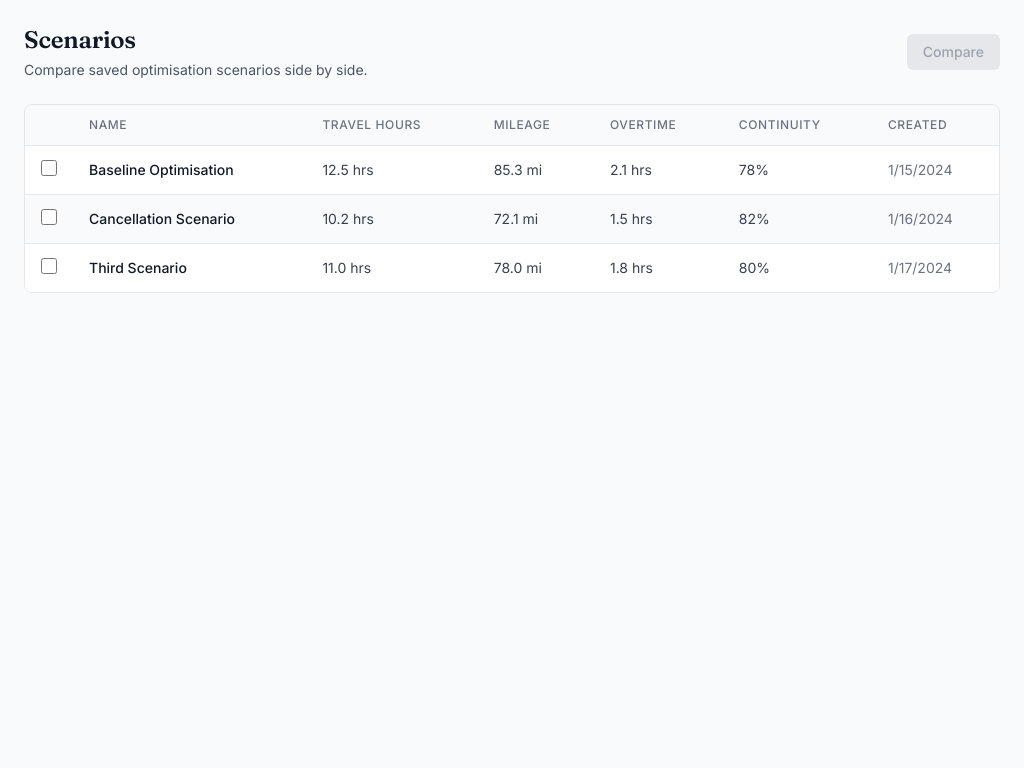
Test: ScenariosPage › navigates to comparison view when compare is clicked
Check: the text "Baseline Optimisation" is shown, box [73, 146, 306, 194]
Click the checkbox named "Select Baseline Optimisation for comparison" at (49, 168), box [41, 160, 57, 176]
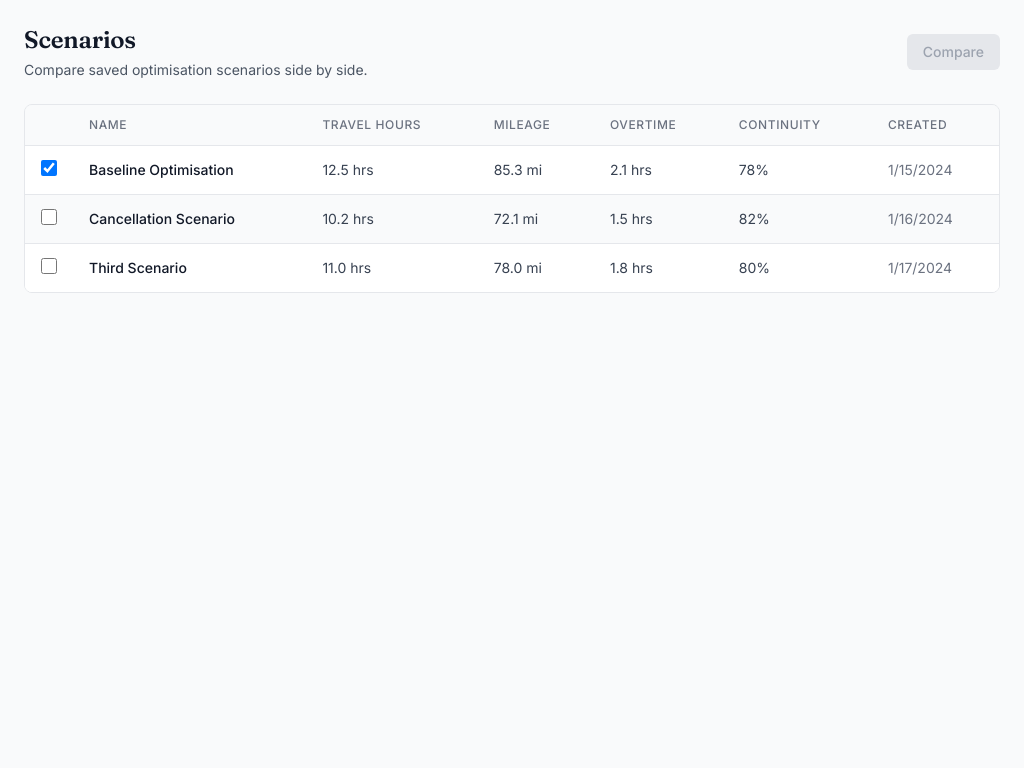
Click the checkbox named "Select Cancellation Scenario for comparison" at (49, 217), box [41, 209, 57, 225]
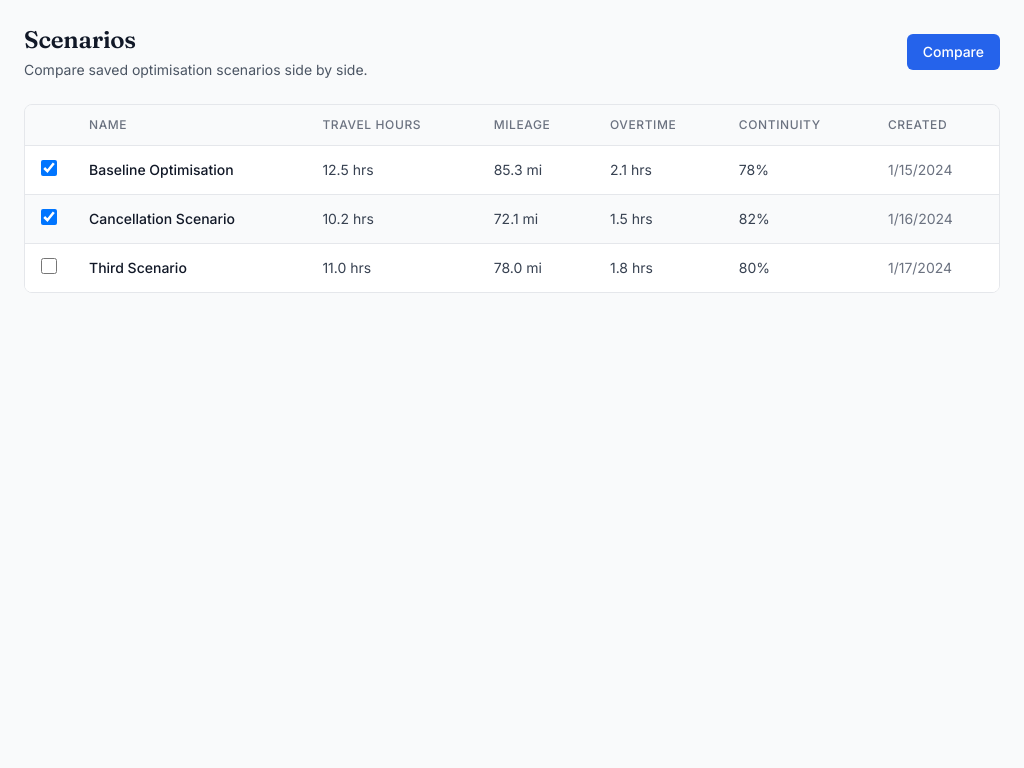
Click the button "Compare" at (953, 52), box [907, 34, 1000, 70]
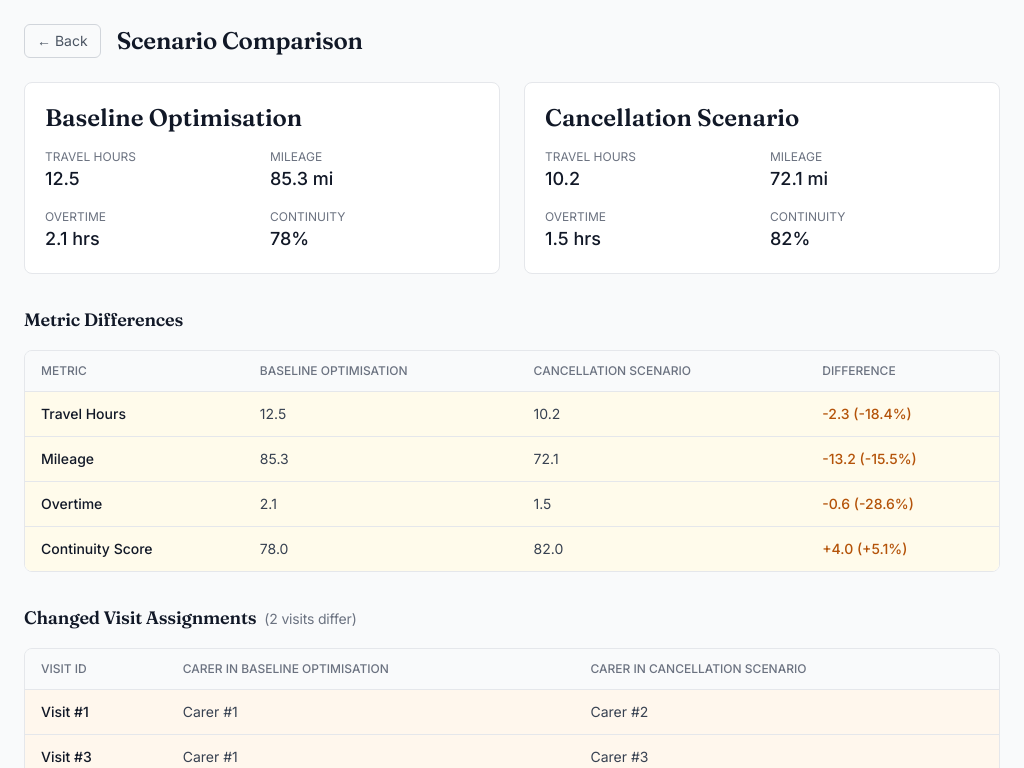
Check: the heading "Scenario Comparison" is shown, box [117, 25, 363, 57]
